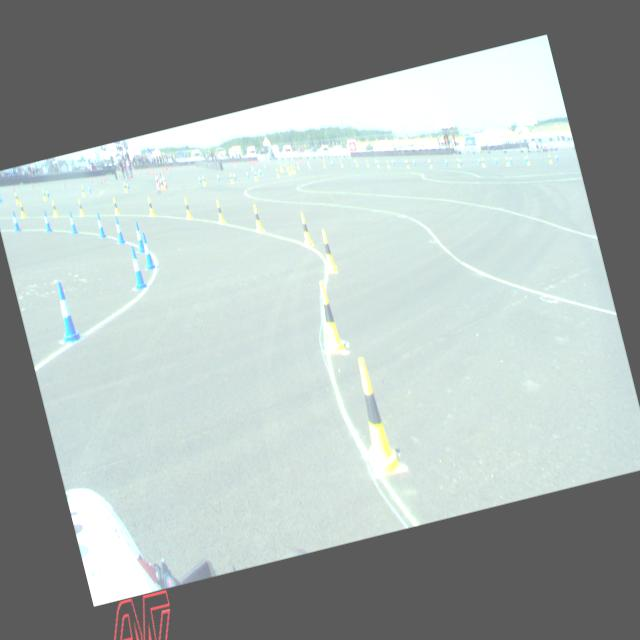blue_cone: (49, 279, 83, 344), (124, 244, 148, 290), (138, 230, 156, 270), (131, 220, 145, 253), (112, 215, 125, 244), (94, 212, 106, 238), (67, 210, 78, 234), (42, 210, 52, 232), (10, 210, 20, 232), (476, 156, 481, 164), (524, 153, 528, 162), (554, 152, 558, 161), (45, 188, 49, 196), (458, 157, 462, 165), (508, 154, 512, 162), (412, 158, 416, 165), (493, 156, 497, 163), (0, 192, 1, 202)
large_orange_cone: (160, 171, 168, 189), (153, 173, 160, 191), (156, 172, 160, 186)
yellow_cone: (344, 354, 402, 478), (310, 279, 345, 356), (318, 228, 338, 273), (297, 212, 313, 247), (250, 204, 264, 232), (214, 199, 225, 224), (182, 197, 192, 219), (146, 196, 154, 216), (112, 197, 120, 215), (76, 198, 84, 216), (50, 200, 58, 216), (18, 201, 26, 217), (80, 186, 86, 197), (14, 192, 19, 203), (158, 179, 164, 188), (525, 155, 530, 164), (42, 190, 46, 200), (123, 182, 127, 192), (202, 175, 206, 185), (253, 171, 257, 180), (275, 168, 279, 177), (456, 158, 460, 167), (504, 156, 508, 165), (548, 154, 552, 163), (229, 174, 233, 182), (405, 160, 409, 168), (428, 160, 432, 168), (480, 158, 484, 166)
